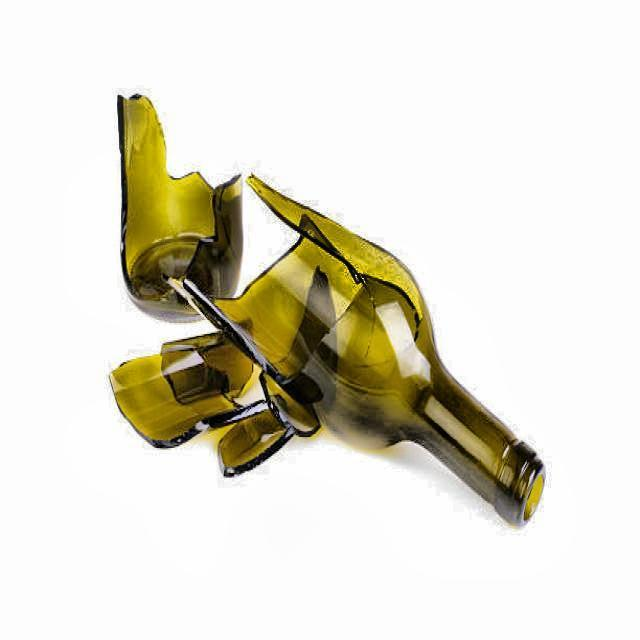glass: (180, 175, 547, 530), (118, 96, 243, 321), (109, 332, 260, 448), (216, 409, 297, 479)
